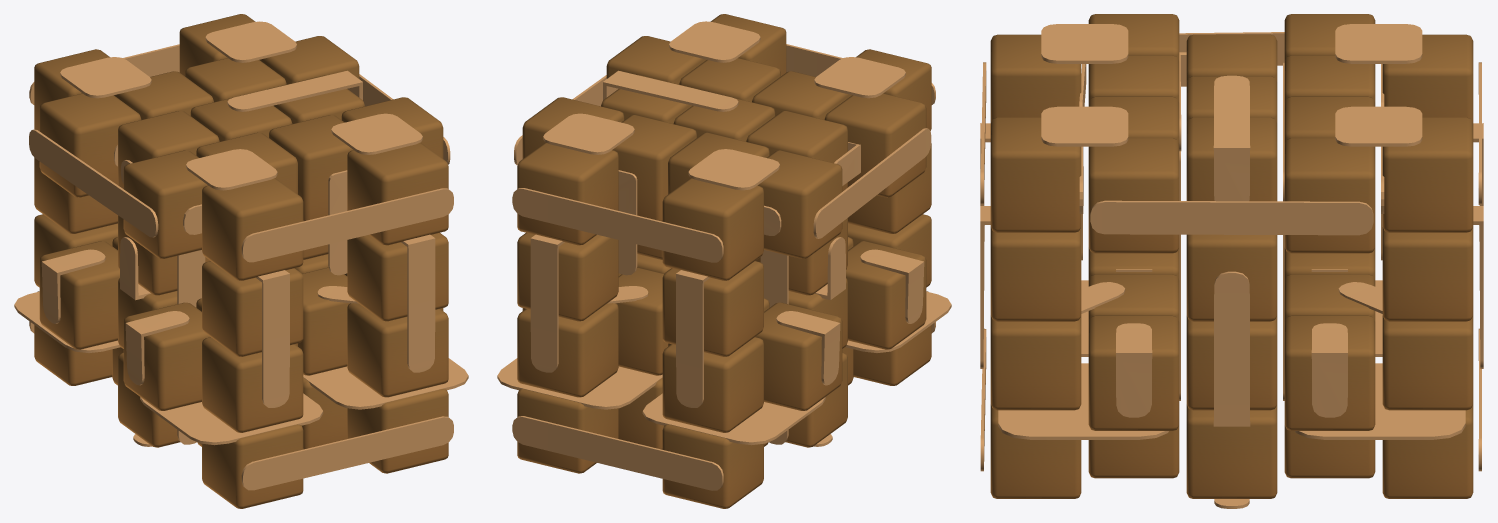
Rendered from level_138.fbx.
3 views of the same model, side by side, from view 1: azimuth 30°, elevation 25°; view 2: azimuth 150°, elevation 25°; view 3: azimuth 270°, elevation 25° (orthographic). The views are drawn at different scales.
Visible parts, largest first — view 1: Cube_L1_28.036, Cube_L1_28.026, Link_20, Link_22, Cube_L1_28.034, Cube_L1_28.028, Cube_L1_28.033, Cube_L1_28, Cube_L1_28.029, Cube_L1_28.032, Cube_L1_28.035, Cube_L1_28.027 (+39 smaller); view 2: Cube_L1_28.060, Cube_L1_28.055, Cube_L1_28.056, Link_21, Link_19, Cube_L1_28.059, Cube_L1_28.032, Cube_L1_28.029, Cube_L1_28, Cube_L1_28.058, Cube_L1_28.057, Cube_L1_28.033 (+40 smaller); view 3: Link_18, Cube_L1_28.059, Cube_L1_28.028, Cube_L1_28.026, Cube_L1_28.027, Cube_L1_28.055, Cube_L1_28.057, Cube_L1_28.014, Cube_L1_28.048, Cube_L1_28.051, Cube_L1_28.046, Cube_L1_28.049 (+38 smaller).
Boxes of the visible parts, x1,y1,x2,y2 form: Cube_L1_28.036: (202, 178, 303, 280); Cube_L1_28.026: (347, 303, 448, 397); Link_20: (241, 416, 453, 490); Link_22: (241, 188, 453, 262); Cube_L1_28.034: (202, 337, 303, 432); Cube_L1_28.028: (347, 142, 448, 245); Cube_L1_28.033: (123, 150, 207, 258); Cube_L1_28: (123, 302, 210, 410); Cube_L1_28.029: (39, 241, 119, 349); Cube_L1_28.032: (39, 93, 141, 197); Cube_L1_28.035: (202, 261, 303, 356); Cube_L1_28.027: (347, 232, 448, 321); Cube_L1_28.060: (662, 178, 763, 280); Cube_L1_28.055: (517, 303, 618, 397); Cube_L1_28.056: (662, 337, 763, 432); Link_21: (512, 188, 723, 262); Link_19: (512, 416, 723, 490); Cube_L1_28.059: (517, 142, 618, 245); Cube_L1_28.032: (758, 150, 842, 258); Cube_L1_28.029: (755, 302, 842, 410); Cube_L1_28: (846, 241, 926, 349); Cube_L1_28.058: (662, 261, 763, 356); Cube_L1_28.057: (517, 232, 618, 321); Cube_L1_28.033: (824, 93, 926, 197); Link_18: (1090, 200, 1373, 235); Cube_L1_28.059: (1382, 117, 1473, 232); Cube_L1_28.028: (990, 117, 1081, 232); Cube_L1_28.026: (990, 315, 1081, 410); Cube_L1_28.027: (990, 227, 1081, 321); Cube_L1_28.055: (1382, 315, 1473, 410); Cube_L1_28.057: (1382, 227, 1473, 321); Cube_L1_28.014: (1186, 404, 1277, 498); Cube_L1_28.048: (1088, 138, 1179, 253); Cube_L1_28.051: (1284, 138, 1375, 253); Cube_L1_28.046: (1088, 315, 1179, 430); Cube_L1_28.049: (1284, 315, 1375, 430).
Bounding box in the file's own units: 8.83 × 8.78 × 10.9.
